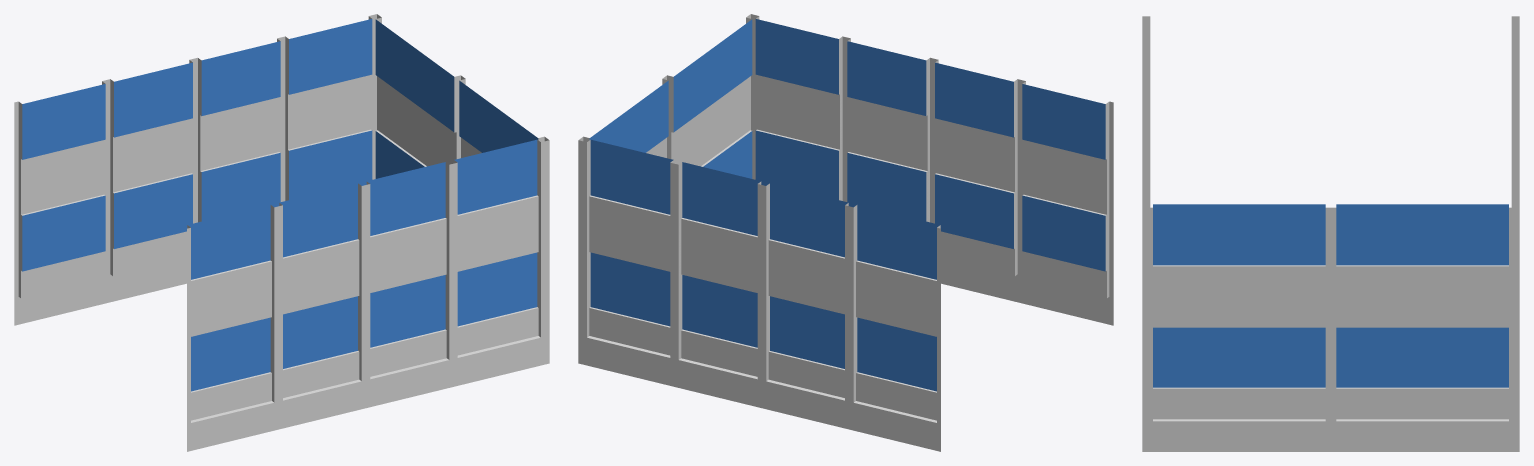
The picture shows the model from 3 angles, left to right: view 1: azimuth 30°, elevation 25°; view 2: azimuth 150°, elevation 25°; view 3: azimuth 270°, elevation 25°; orthographic projection. The views are drawn at different scales.
Visible parts, largest first — view 1: 04a_Base; view 2: 04a_Base; view 3: 04a_Base.
Boxes of the visible parts, x1=… form: 04a_Base: x1=14, y1=14, x2=549, y2=451; 04a_Base: x1=578, y1=14, x2=1113, y2=451; 04a_Base: x1=1142, y1=16, x2=1519, y2=451.
Bounding box in the file's own units: 42.5 × 25 × 35.
